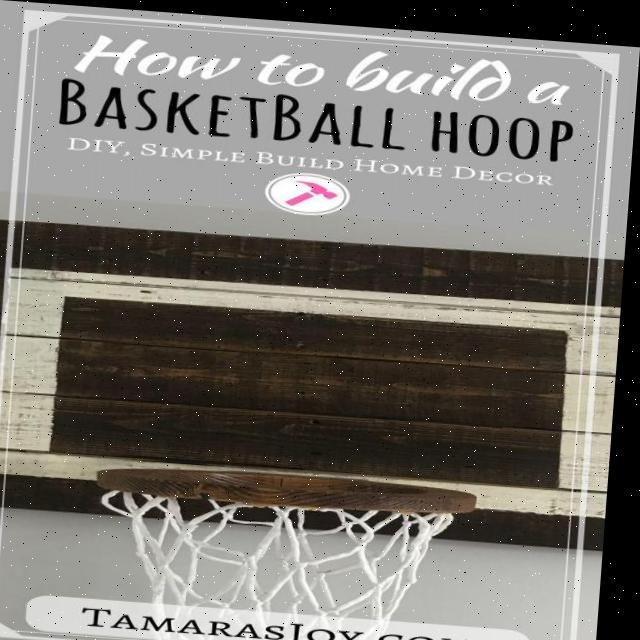hoop: (84, 461, 478, 640)
